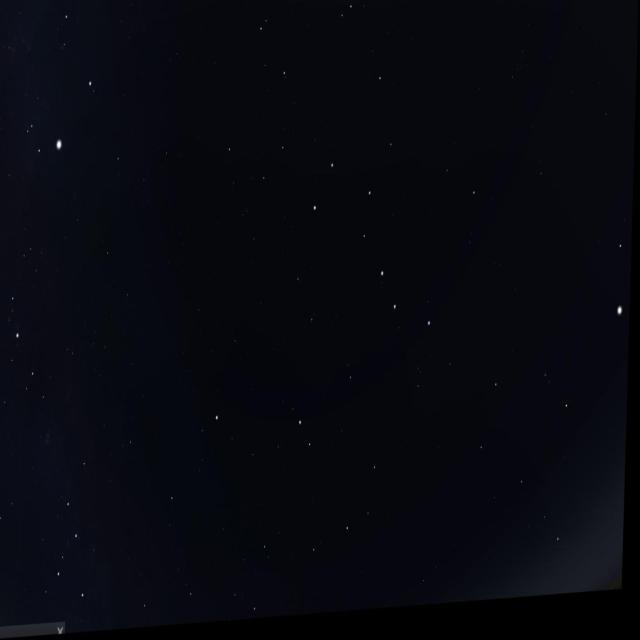cassiopeia: (54, 452, 116, 636)
ursa_major: (301, 148, 439, 360)
